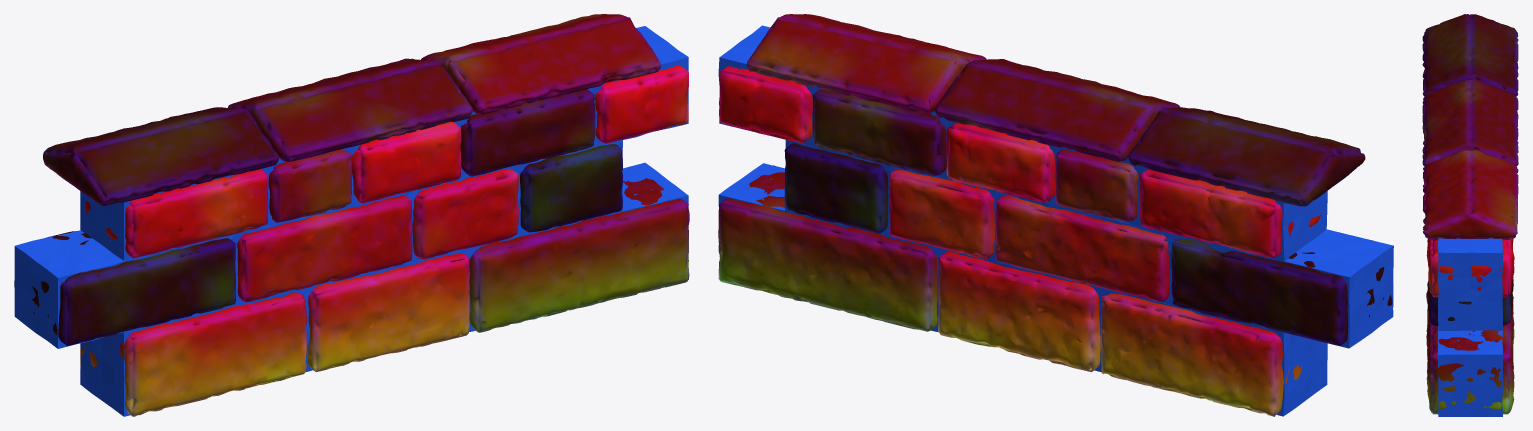
Rendered from SM_InnerParapet488_A.fbx.
3 views of the same model, side by side, from view 1: azimuth 30°, elevation 25°; view 2: azimuth 150°, elevation 25°; view 3: azimuth 270°, elevation 25° (orthographic). The views are drawn at different scales.
Visible parts, largest first — view 1: SM_InnerParapet488_A; view 2: SM_InnerParapet488_A; view 3: SM_InnerParapet488_A.
Boxes of the visible parts, x1,y1,x2,y2 form: SM_InnerParapet488_A: [14, 14, 689, 416]; SM_InnerParapet488_A: [718, 14, 1393, 416]; SM_InnerParapet488_A: [1422, 14, 1518, 416].
Bounding box in the file's own units: 269 × 105 × 47.74.
